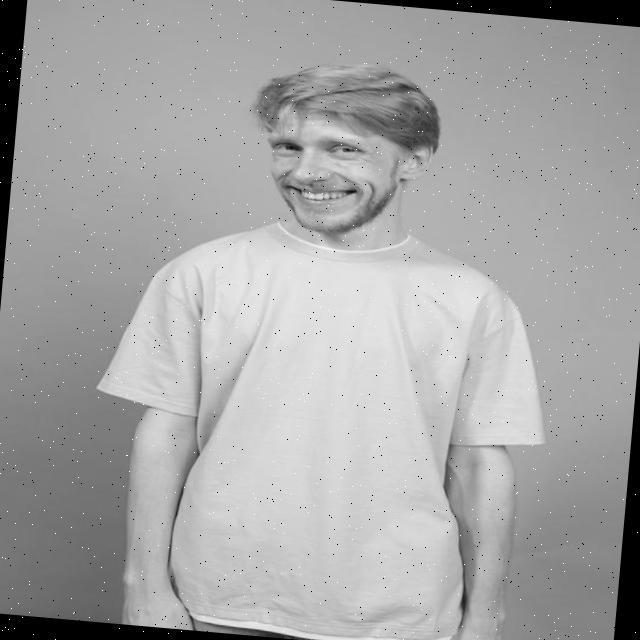Happiness: (262, 103, 406, 240)
